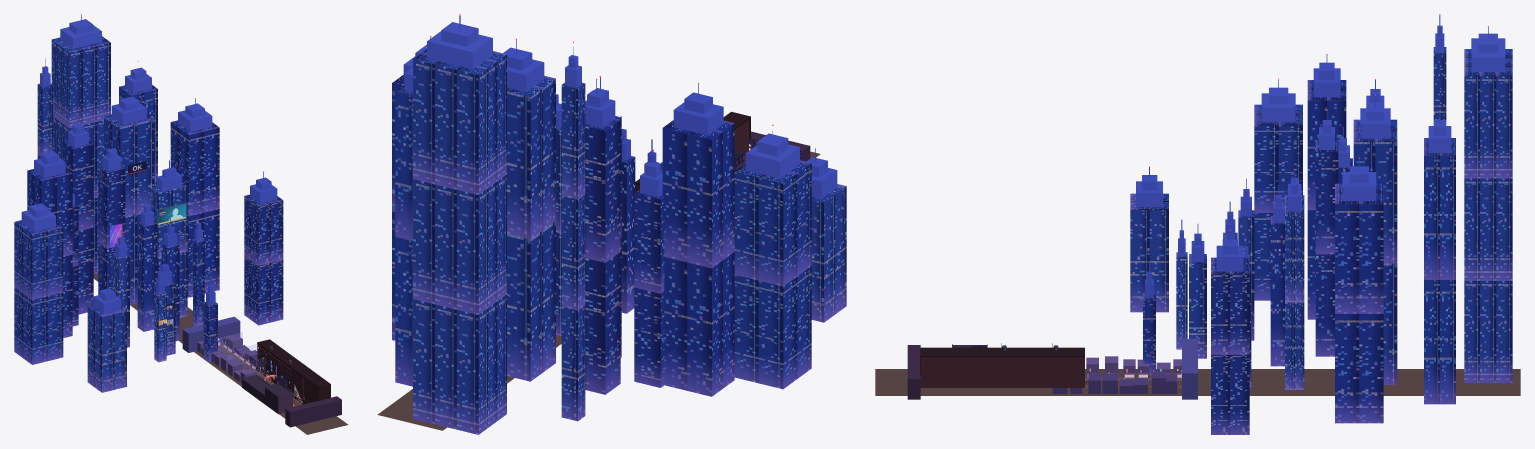
Rendered from street-1-night.lod1.glb.
The picture shows the model from 3 angles, left to right: view 1: azimuth 30°, elevation 25°; view 2: azimuth 150°, elevation 25°; view 3: azimuth 270°, elevation 25°; orthographic projection. The views are drawn at different scales.
Parts seen in each view (by area): view 1: object 67, object 76, object 66, object 68, object 63, object 57, object 69, object 52, object 74, object 61, object 72, object 58 (+28 smaller); view 2: object 76, object 52, object 67, object 63, object 57, object 59, object 78, object 79, object 69, object 53, object 60, object 58 (+8 smaller); view 3: object 76, object 66, object 79, object 9, object 68, object 67, object 218, object 63, object 74, object 69, object 72, object 52 (+17 smaller).
Part boxes in pixels (x1,y1,x2,y2): object 67: (14, 220, 63, 364); object 76: (51, 36, 110, 273); object 66: (170, 120, 219, 297); object 68: (244, 194, 283, 325); object 63: (104, 114, 154, 305); object 57: (63, 141, 93, 314); object 69: (87, 305, 126, 392); object 52: (27, 169, 72, 337); object 74: (98, 165, 125, 294); object 61: (137, 222, 157, 331); object 72: (151, 182, 187, 317); object 58: (68, 91, 212, 147); object 76: (413, 49, 506, 434); object 52: (662, 120, 734, 396); object 67: (734, 160, 811, 389); object 63: (507, 75, 555, 381); object 57: (585, 118, 620, 394); object 59: (561, 82, 585, 421); object 78: (634, 189, 664, 387); object 79: (395, 84, 412, 386); object 69: (811, 184, 846, 322); object 53: (673, 84, 837, 198); object 60: (404, 47, 799, 178); object 58: (403, 37, 613, 127); object 76: (1464, 49, 1512, 383); object 66: (1335, 183, 1383, 423); object 79: (1424, 138, 1455, 404); object 9: (875, 369, 1520, 395); object 68: (1211, 257, 1249, 434); object 67: (1254, 104, 1302, 300); object 218: (920, 357, 1084, 387); object 63: (1353, 119, 1397, 384); object 74: (1315, 139, 1338, 356); object 69: (1130, 193, 1168, 312); object 72: (1285, 195, 1304, 389); object 52: (1307, 80, 1346, 319).
Size of the model in its own units: 227 by 237 by 400.
318 materials, 129 textured.
